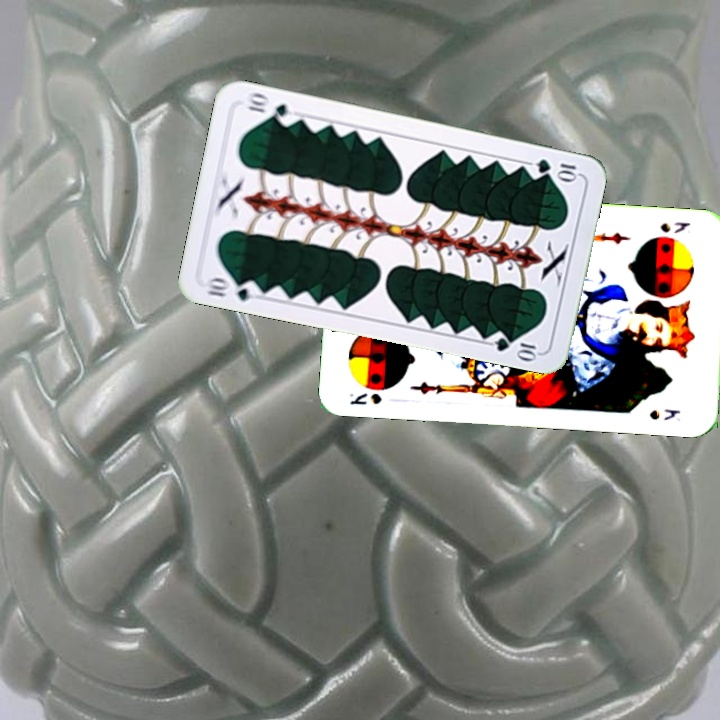G10: (202, 273, 262, 304), (531, 155, 581, 182)
SK: (345, 389, 384, 408), (656, 218, 693, 236)
